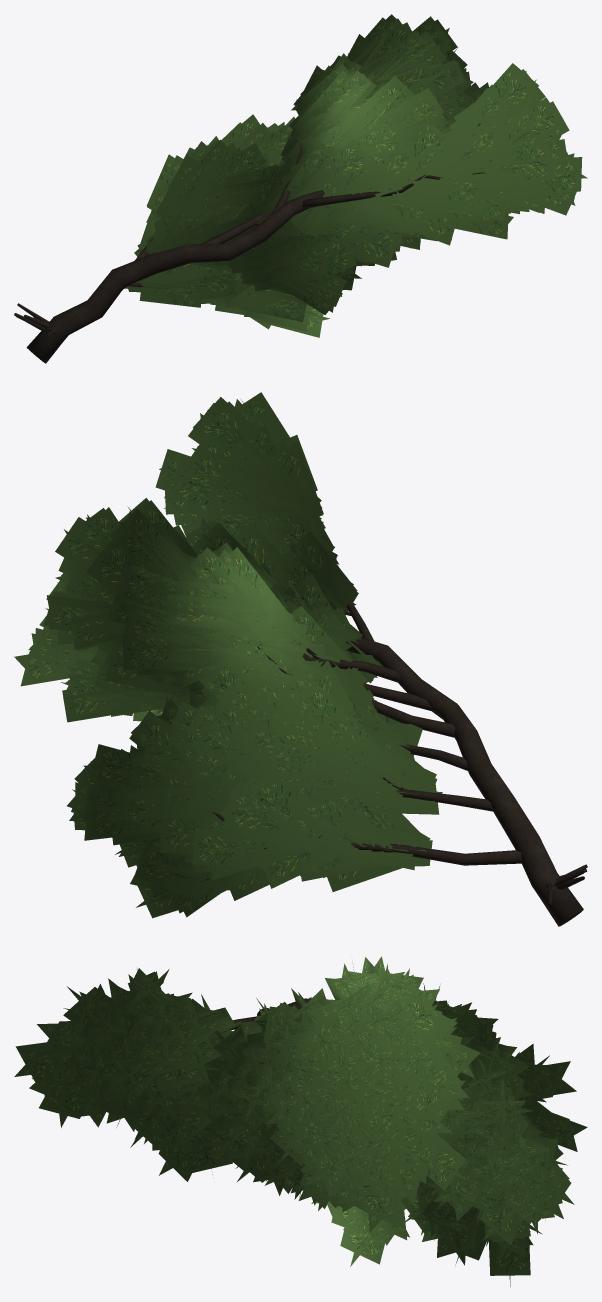
File: krummholz_pine_v02.fbx
The picture shows the model from 3 angles, top to bottom: view 1: azimuth 30°, elevation 25°; view 2: azimuth 150°, elevation 25°; view 3: azimuth 270°, elevation 25°; orthographic projection. The views are drawn at different scales.
Parts seen in each view (by area): view 1: krummholz_pine_v02; view 2: krummholz_pine_v02; view 3: krummholz_pine_v02.
Boxes of the visible parts, box(x1,y1,x2,y2) form: krummholz_pine_v02: box(14, 14, 587, 363); krummholz_pine_v02: box(14, 392, 587, 926); krummholz_pine_v02: box(14, 956, 587, 1286).
Bounding box in the file's own units: 431 × 360 × 260.
2 materials, 2 textured.
